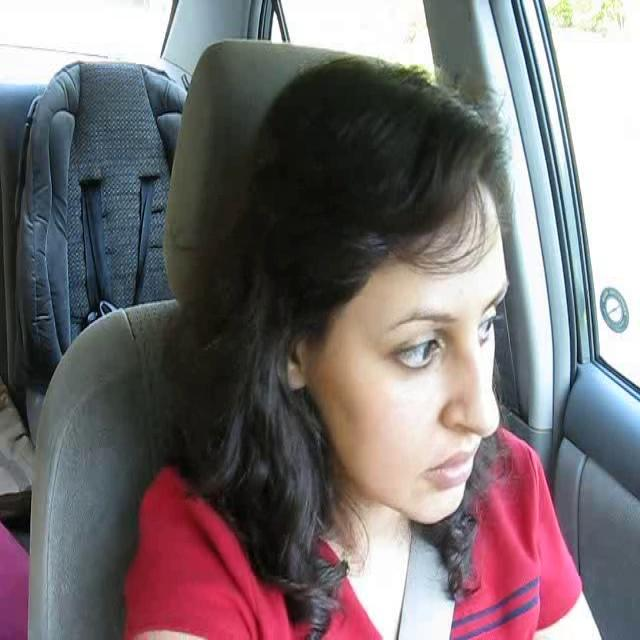close: (424, 446, 484, 491)
